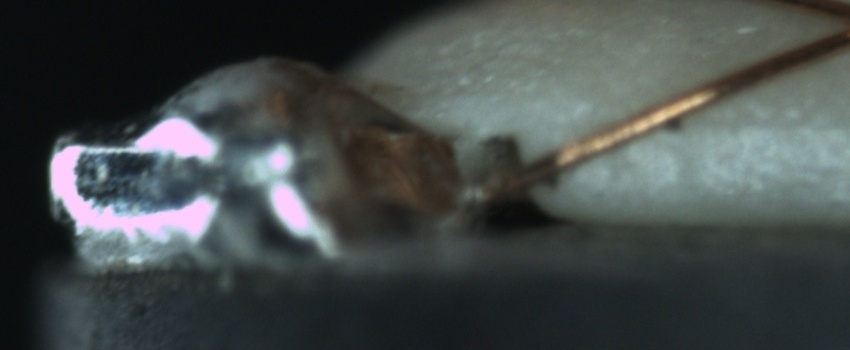DL: (637, 95, 845, 155)
